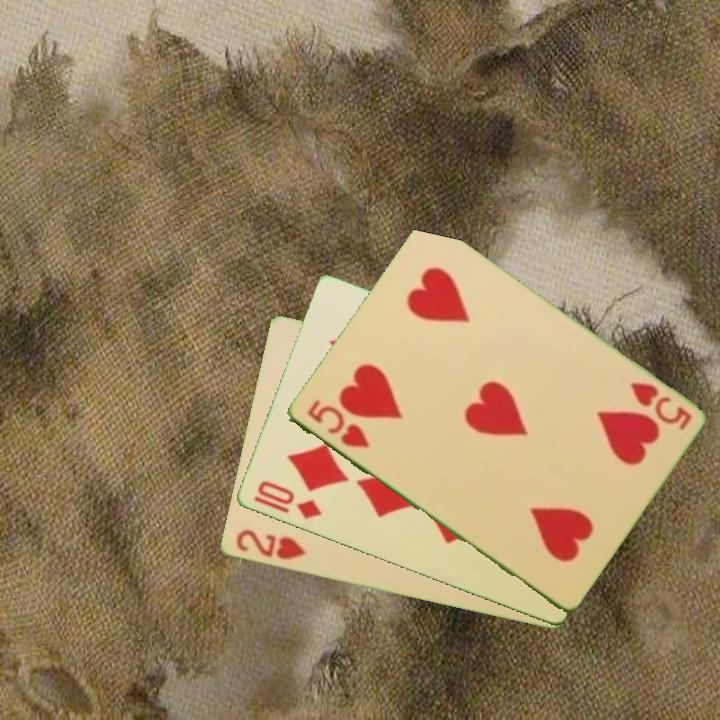10d: (253, 477, 324, 523)
2h: (232, 526, 308, 563)
5h: (302, 396, 373, 452), (626, 378, 694, 434)
